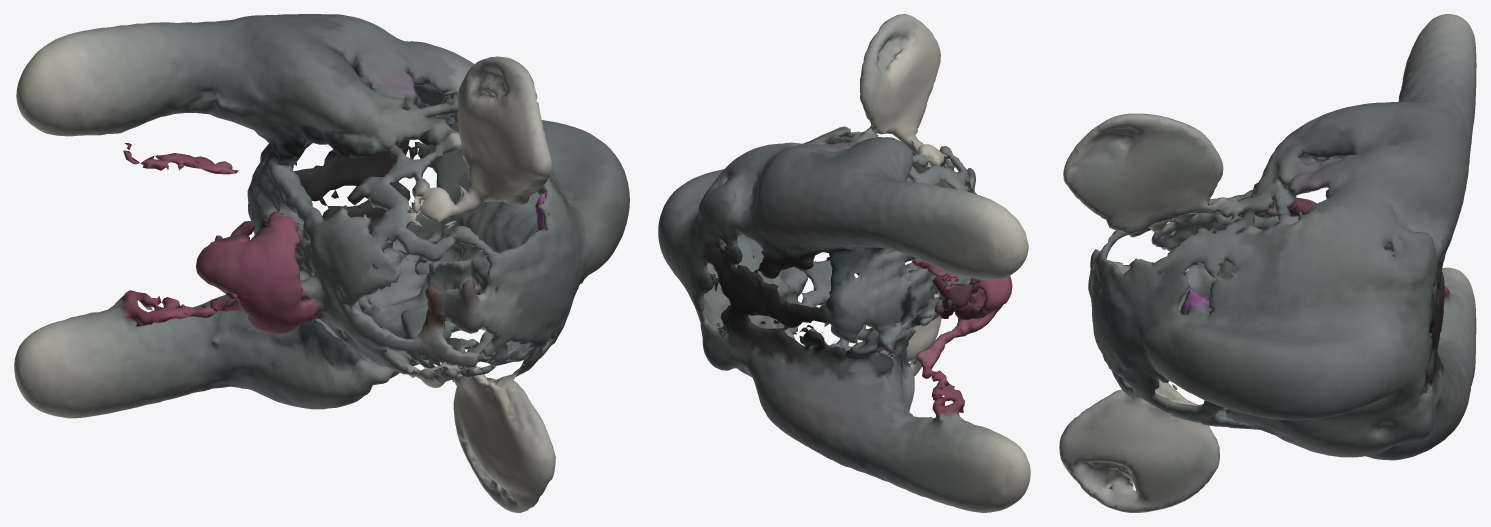
Rendered from elephant.glb.
3 renders of one model, left to right at view 1: azimuth 30°, elevation 25°; view 2: azimuth 150°, elevation 25°; view 3: azimuth 270°, elevation 25°, orthographic. The views are drawn at different scales.
Size of the model in its own units: 1 by 0.818 by 0.7677.
